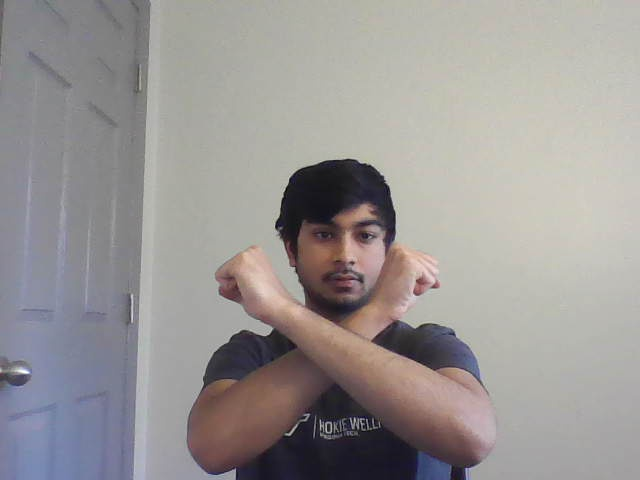cancel: (208, 243, 455, 376)
